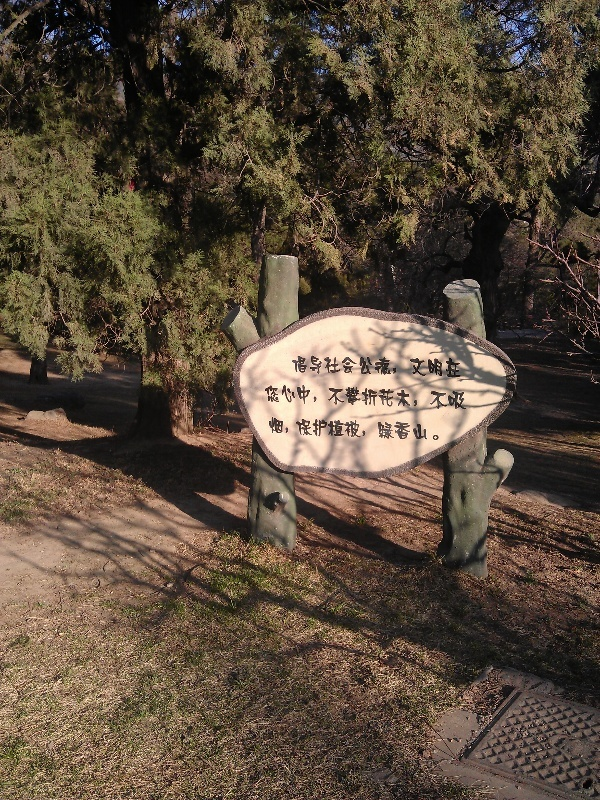text: (305, 352, 320, 380), (321, 352, 336, 380), (337, 352, 352, 380), (353, 352, 368, 380), (369, 352, 384, 380), (385, 352, 400, 380), (401, 352, 416, 380), (417, 352, 432, 380), (433, 352, 448, 380), (449, 352, 464, 380), (273, 414, 288, 442), (289, 414, 304, 442), (305, 414, 320, 442), (321, 414, 336, 442), (337, 414, 352, 442), (353, 414, 368, 442), (369, 414, 384, 442), (385, 414, 400, 442), (401, 414, 416, 442), (417, 414, 432, 442), (273, 384, 288, 410), (289, 384, 304, 410), (305, 384, 320, 410), (321, 384, 336, 410), (337, 384, 352, 410), (353, 384, 368, 410), (369, 384, 384, 410), (385, 384, 400, 410), (401, 384, 416, 410), (417, 384, 432, 410), (433, 384, 448, 410), (449, 384, 464, 410), (292, 352, 304, 380), (262, 384, 272, 410), (433, 414, 441, 442), (267, 414, 272, 442), (465, 384, 469, 410)
